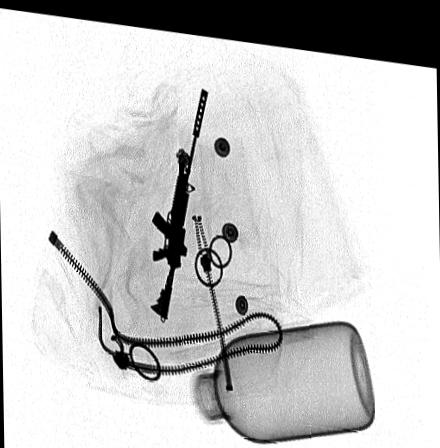Gun: (147, 77, 207, 323)
